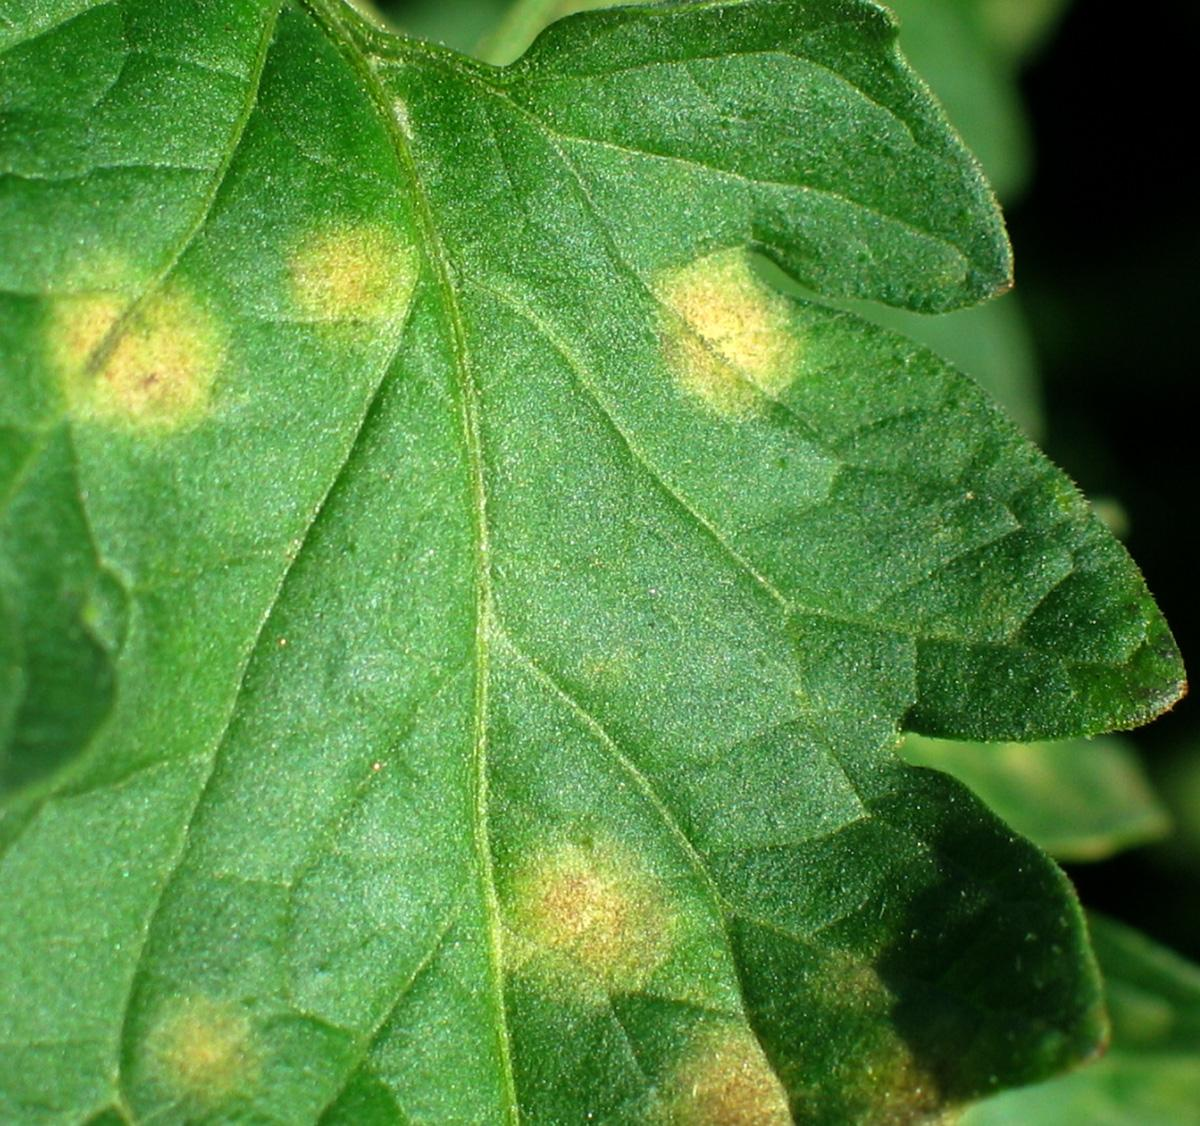Tomato mold leaf: (15, 14, 1174, 1126)
